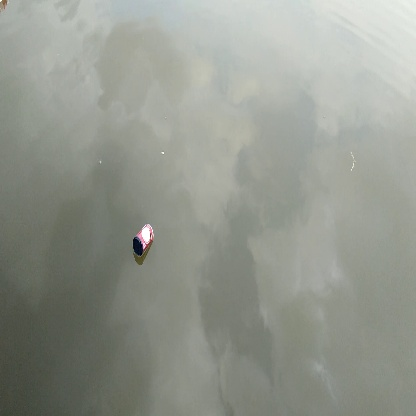bottle: (132, 222, 156, 257)
